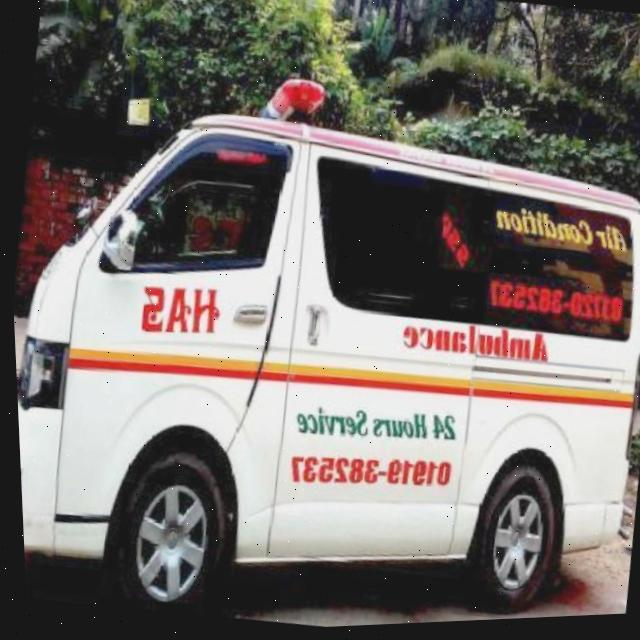emergency: (2, 30, 640, 640)
